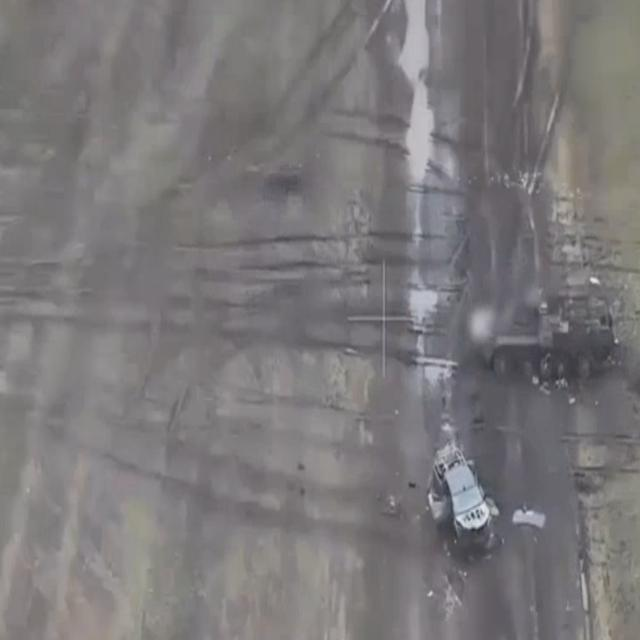vehicle: (487, 274, 614, 388), (426, 441, 494, 555)
